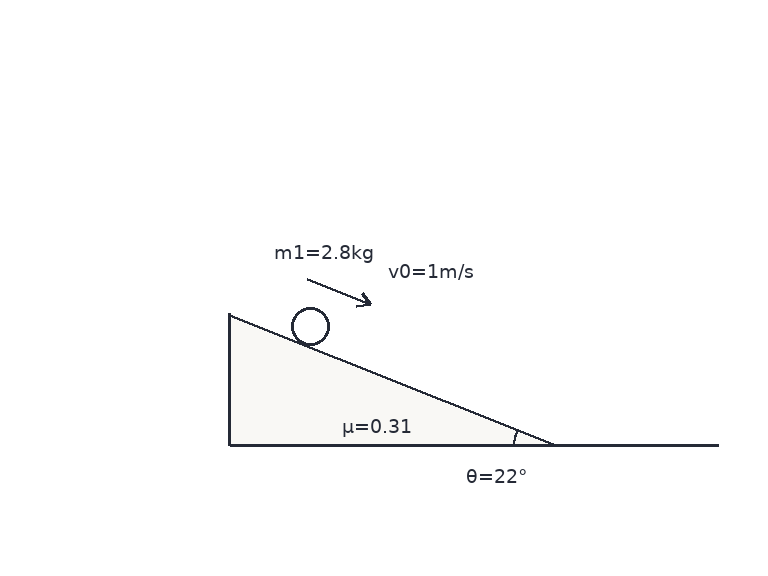ball: (289, 305, 331, 347)
ramp: (227, 312, 556, 447)
